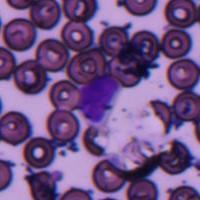L: (79, 73, 122, 128)
